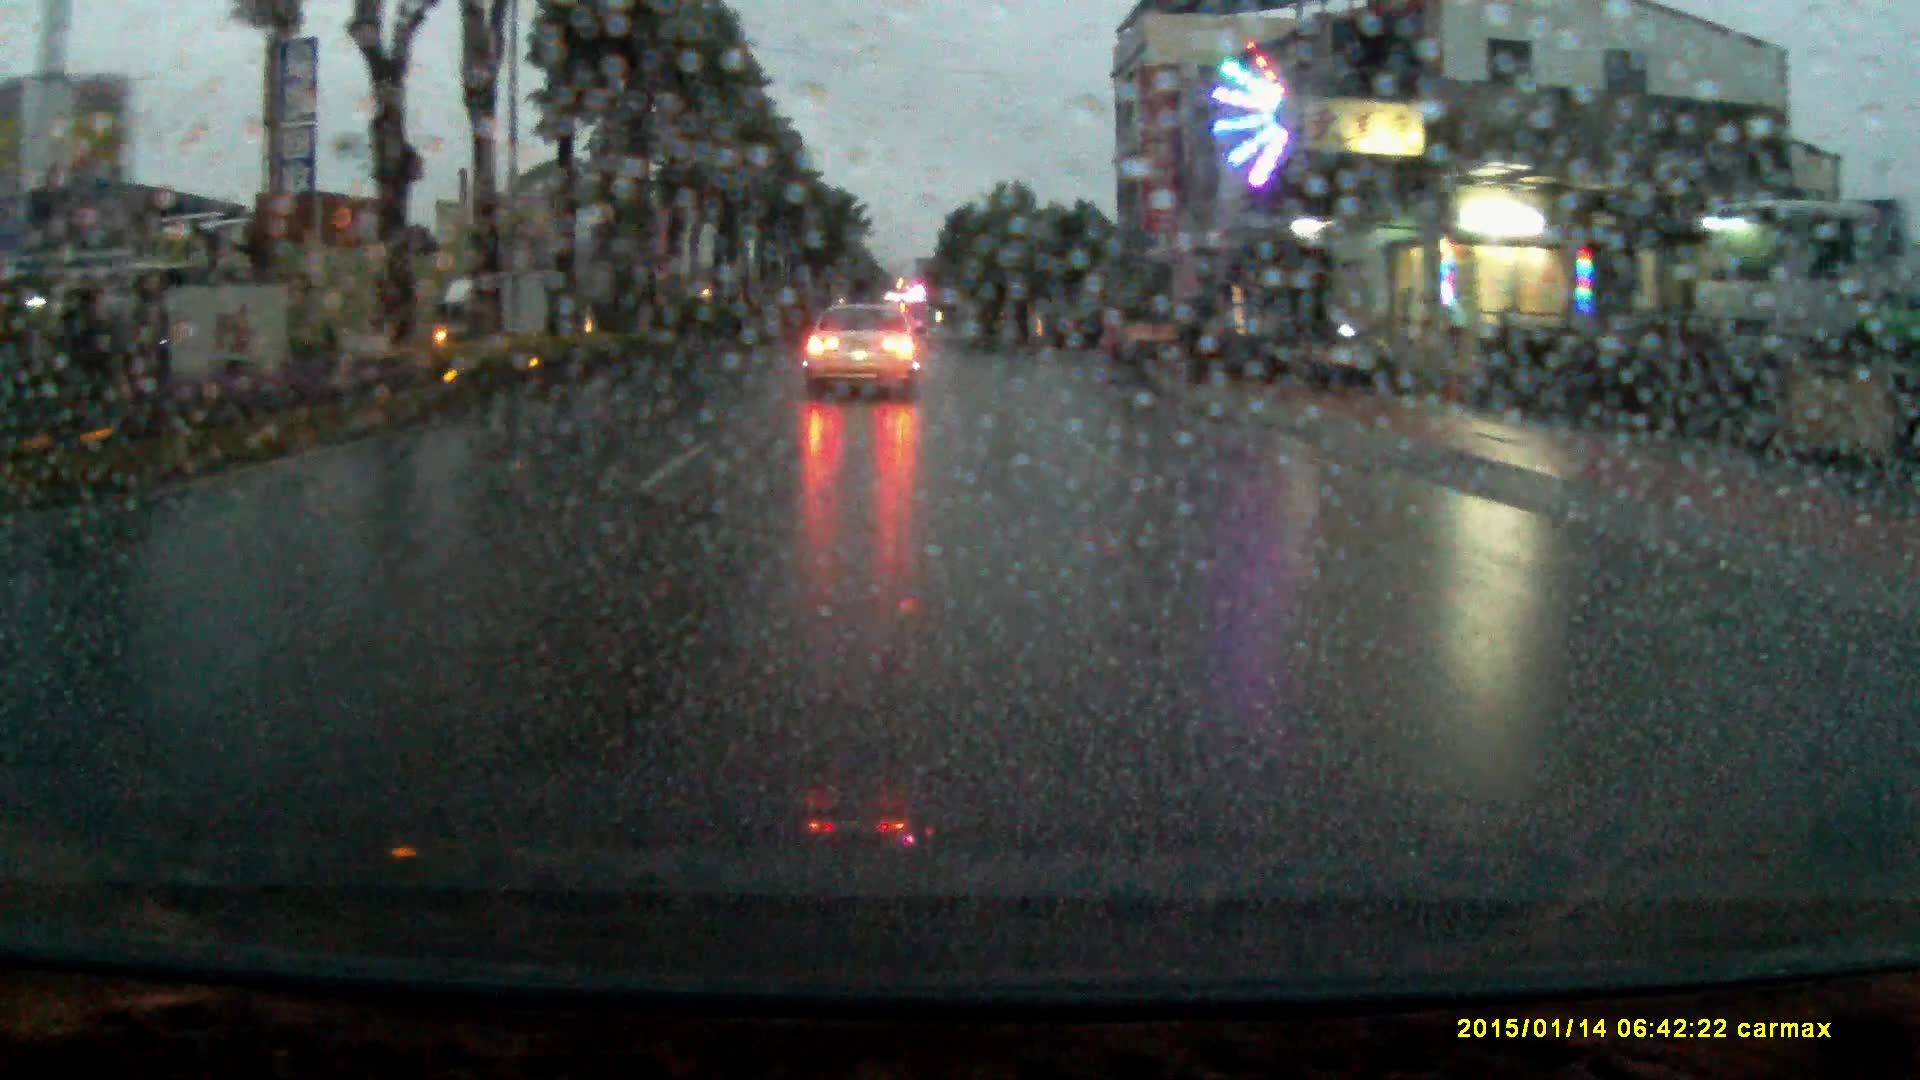vehicle: (1684, 203, 1899, 398), (803, 306, 918, 410), (436, 266, 549, 353), (1039, 311, 1104, 363)
